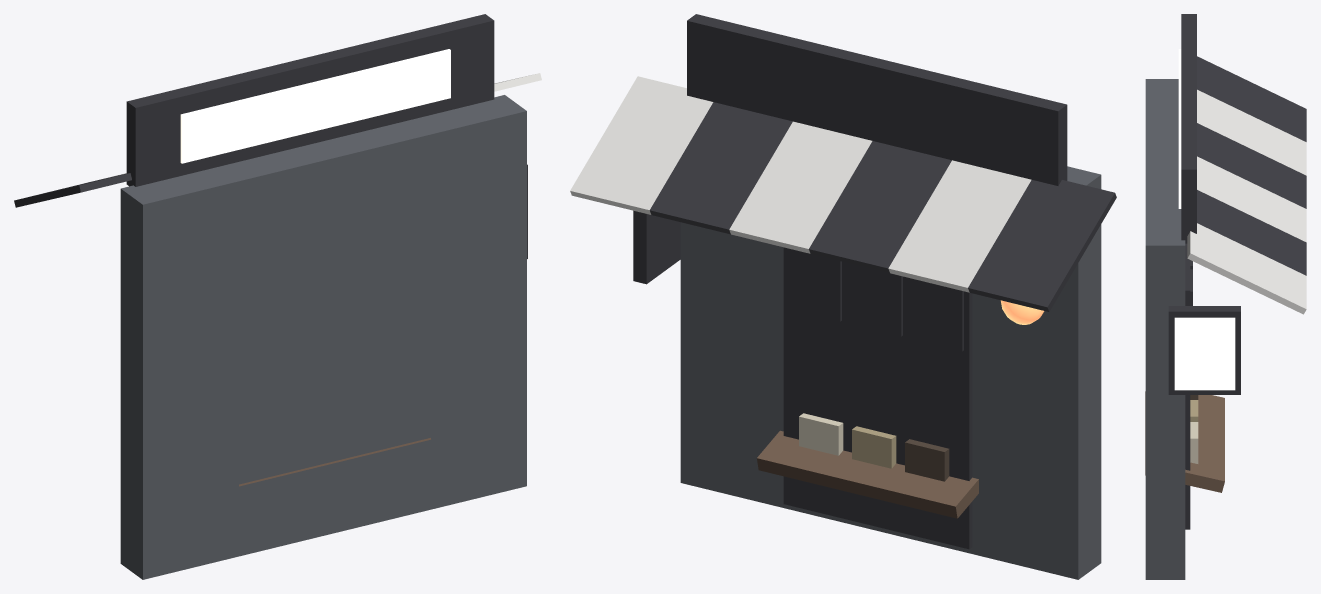
Rendered from prop_mise_kanamono.glb.
3 renders of one model, left to right at view 1: azimuth 30°, elevation 25°; view 2: azimuth 150°, elevation 25°; view 3: azimuth 270°, elevation 25°, orthographic. The views are drawn at different scales.
Parts seen in each view (by area): view 1: mise_kanamono; view 2: mise_kanamono; view 3: mise_kanamono.
Part boxes in pixels (x1,y1,x2,y2): mise_kanamono: (14,14,541,579); mise_kanamono: (570,14,1116,579); mise_kanamono: (1145,14,1306,579).
Bounding box in the file's own units: 3.6 × 3.39 × 1.23.
